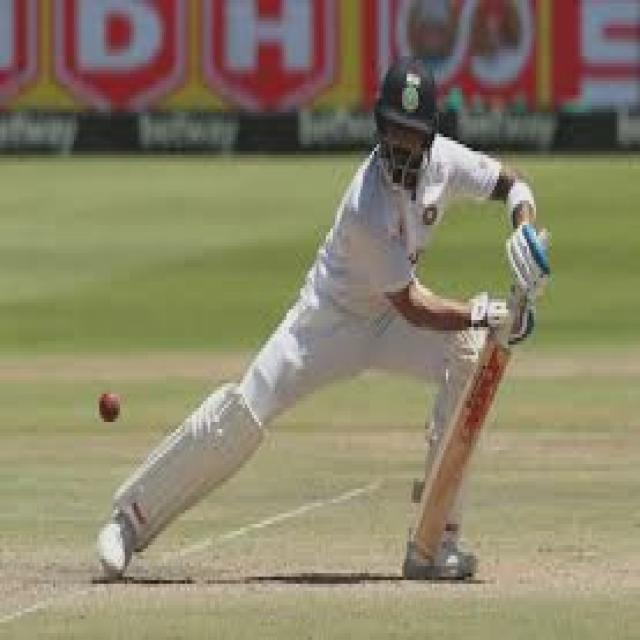bat: (400, 334, 505, 575)
toe: (408, 539, 440, 567)
